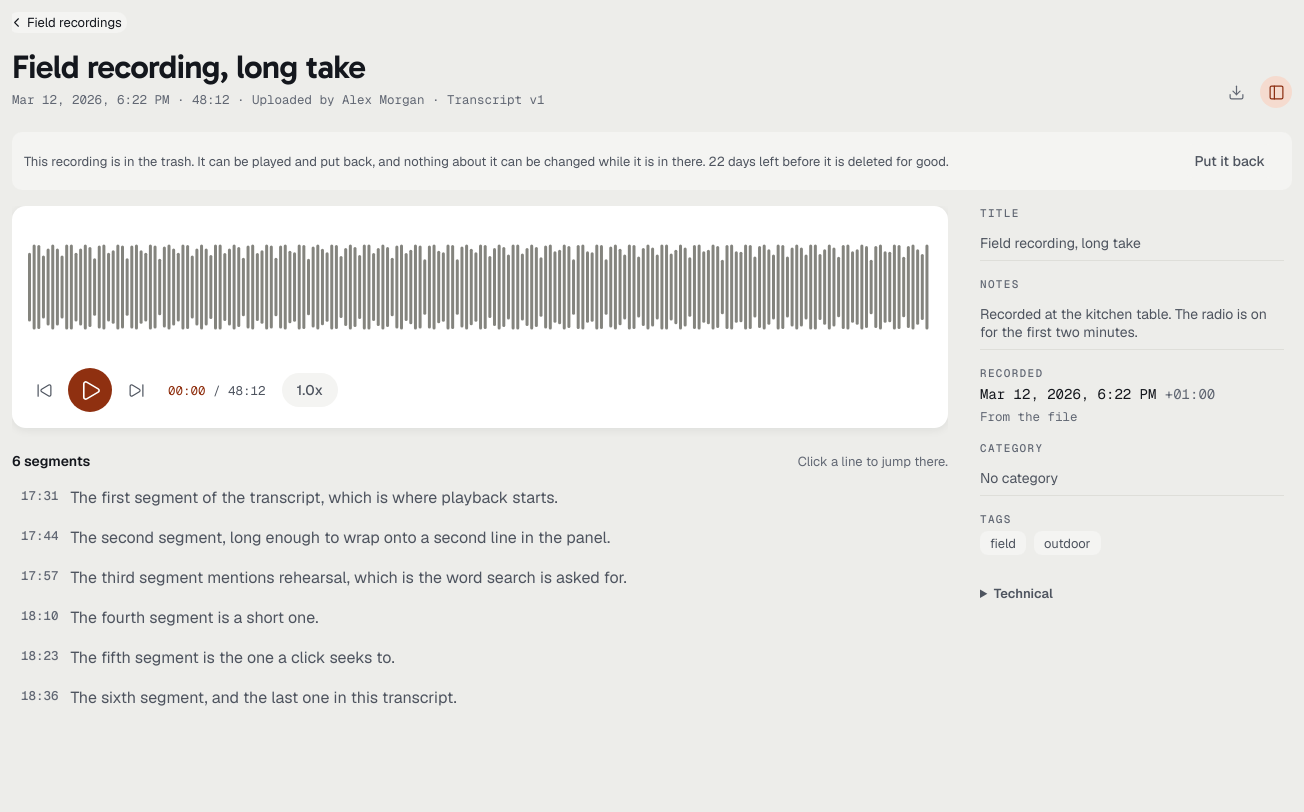
Test case: what it still does › goes back into the library it came from
Click the button "Put it back" at [1230, 161], box x1=1179 y1=144 x2=1280 y2=178
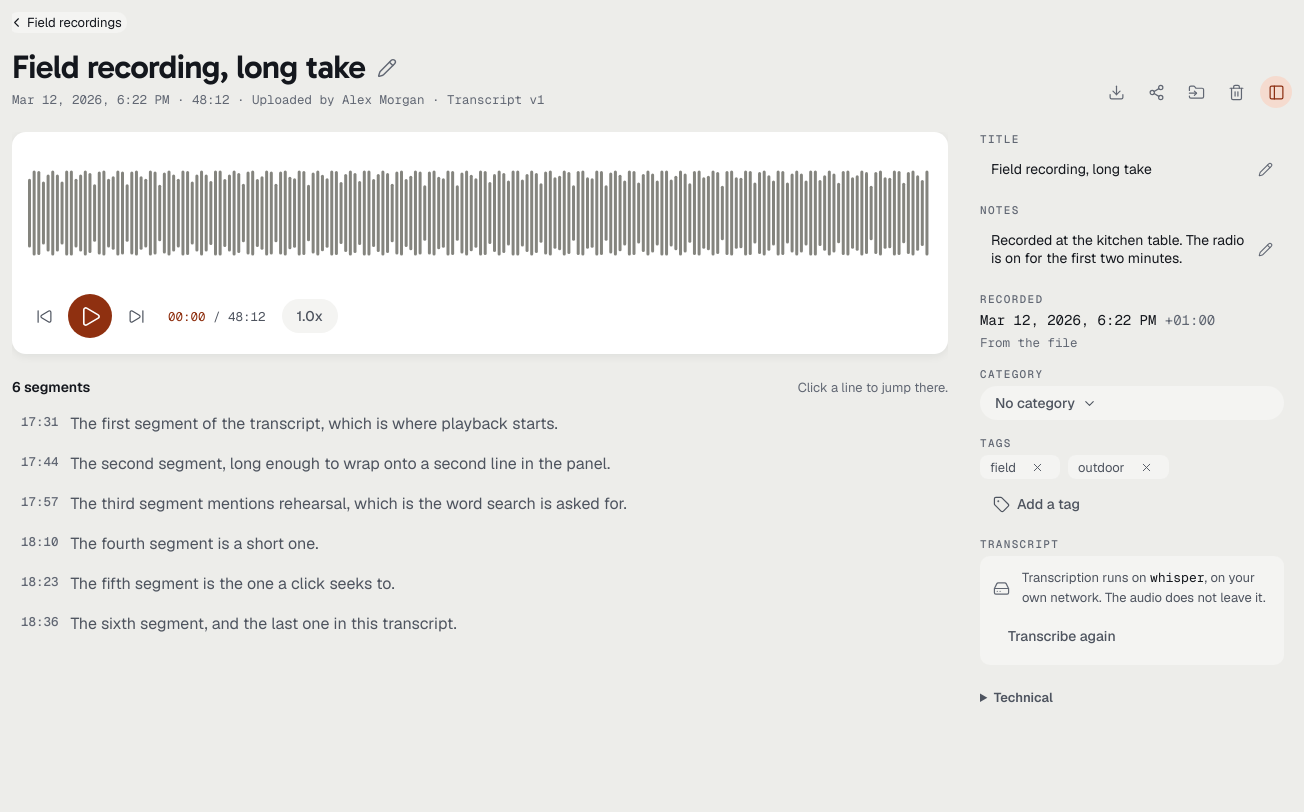
Expected: the text "This recording is in the trash" is gone
